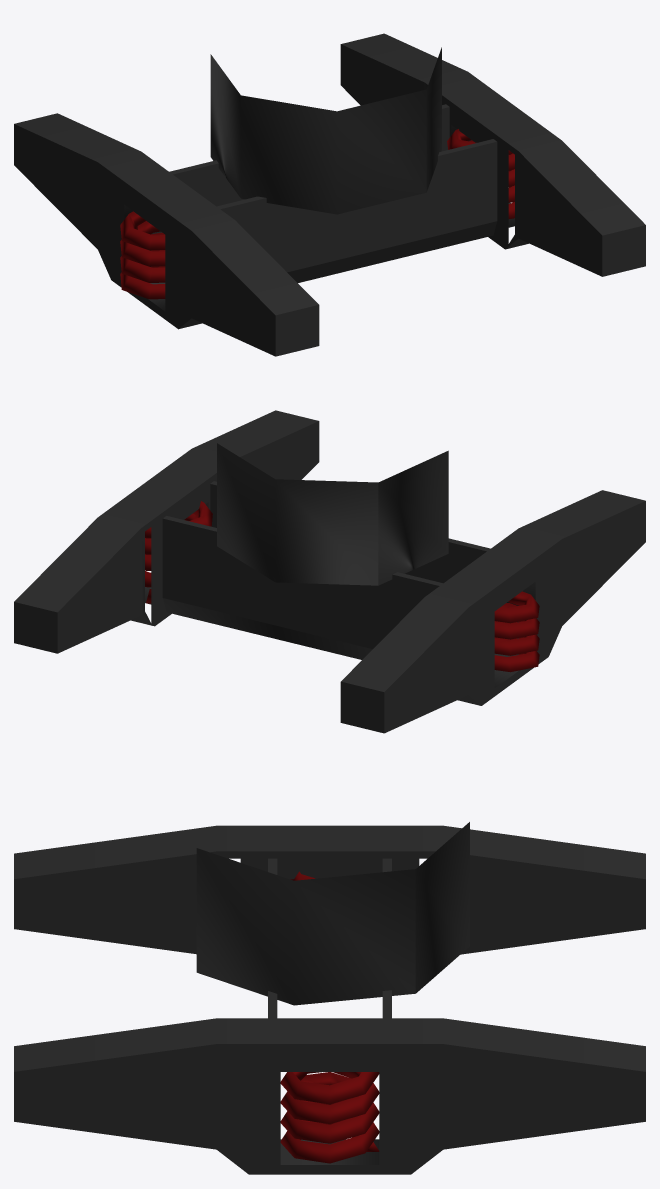
File: bogie_01.glb
3 views of the same model, one above another, from view 1: azimuth 30°, elevation 25°; view 2: azimuth 150°, elevation 25°; view 3: azimuth 270°, elevation 25° (orthographic). The views are drawn at different scales.
Visible parts, largest first — view 1: bogie_01; view 2: bogie_01; view 3: bogie_01.
Part boxes in pixels (box(x1,y1,x2,y2)): bogie_01: box(14, 33, 645, 356); bogie_01: box(14, 410, 645, 733); bogie_01: box(14, 822, 645, 1174).
Bounding box in the file's own units: 3.2 × 1.47 × 3.48.
